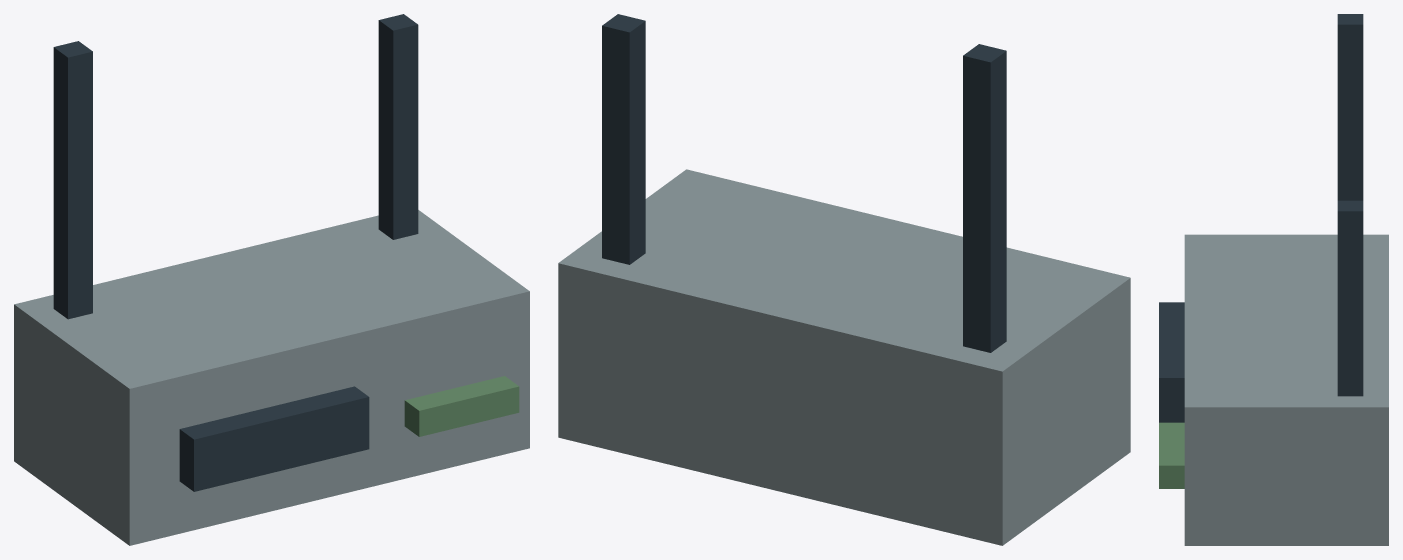
File: news-07.glb
The picture shows the model from 3 angles, left to right: view 1: azimuth 30°, elevation 25°; view 2: azimuth 150°, elevation 25°; view 3: azimuth 270°, elevation 25°; orthographic projection. The views are drawn at different scales.
Parts seen in each view (by area): view 1: Field recorder; view 2: Field recorder; view 3: Field recorder.
Part boxes in pixels (x1,y1,x2,y2): Field recorder: (14, 14, 529, 545); Field recorder: (558, 14, 1130, 545); Field recorder: (1159, 14, 1388, 545).
Bounding box in the file's own units: 1.28 × 1.28 × 0.72.
